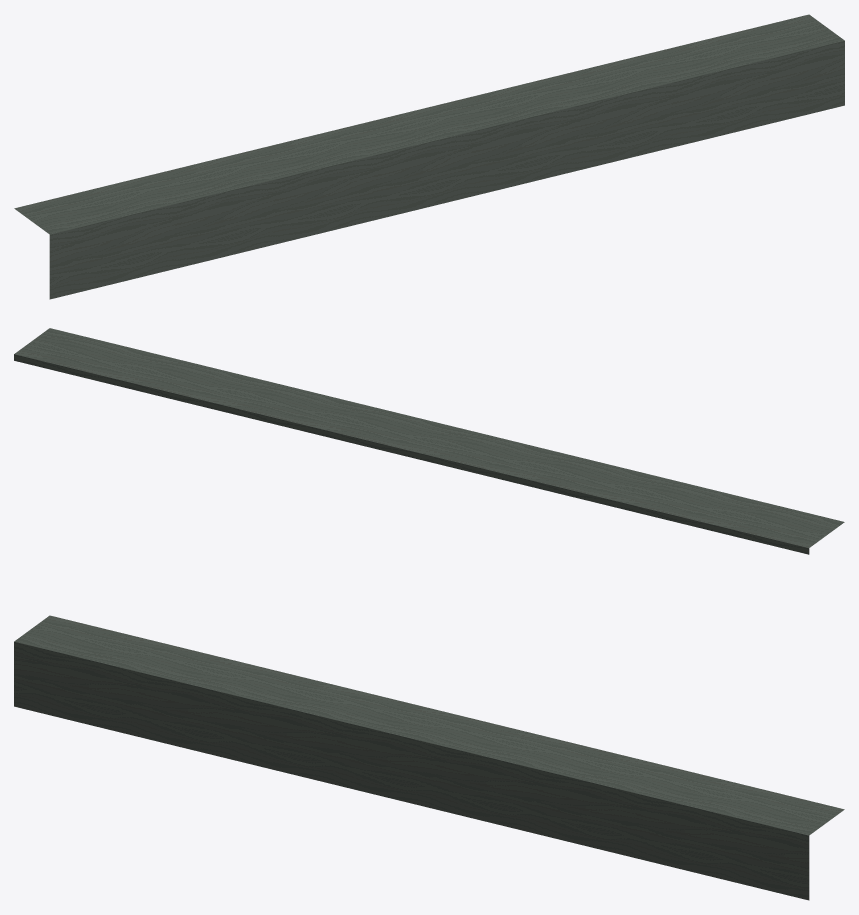
File: kd_stage_135b75_4_91_bounded.glb
3 views of the same model, one above another, from view 1: azimuth 30°, elevation 25°; view 2: azimuth 150°, elevation 25°; view 3: azimuth 330°, elevation 25° (orthographic).
Visible parts, largest first — view 1: kd_stage_135b75_4_91_bounded; view 2: kd_stage_135b75_4_91_bounded; view 3: kd_stage_135b75_4_91_bounded.
Part boxes in pixels (x1=…): kd_stage_135b75_4_91_bounded: x1=14, y1=14, x2=844, y2=299; kd_stage_135b75_4_91_bounded: x1=14, y1=328, x2=844, y2=554; kd_stage_135b75_4_91_bounded: x1=14, y1=615, x2=844, y2=900.
Bounding box in the file's own units: 1.28 × 0.1 × 0.1.
Materials: 1 (1 with a texture image).
